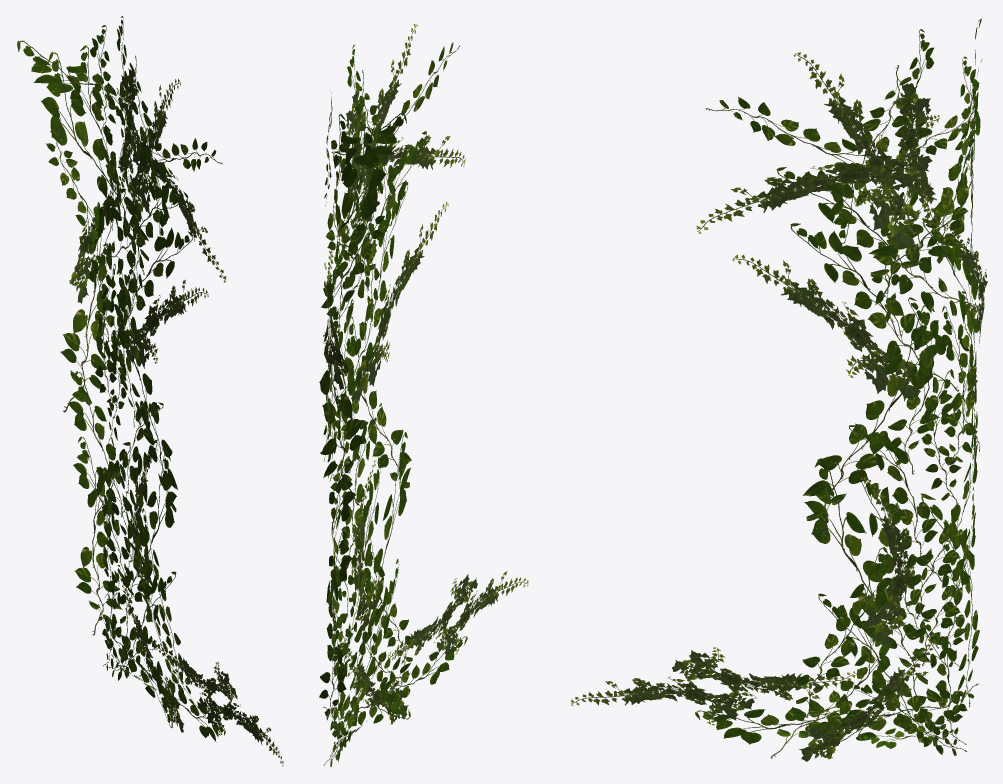
The model's file is SM_Prop_Ivy_Corner.fbx.
3 views of the same model, side by side, from view 1: azimuth 30°, elevation 25°; view 2: azimuth 150°, elevation 25°; view 3: azimuth 270°, elevation 25° (orthographic). The views are drawn at different scales.
Visible parts, largest first — view 1: SM_Prop_Ivy_Corner_LOD0; view 2: SM_Prop_Ivy_Corner_LOD0; view 3: SM_Prop_Ivy_Corner_LOD0.
Part boxes in pixels (left/top/right/bottom): SM_Prop_Ivy_Corner_LOD0: left=17, top=16, right=283, bottom=766; SM_Prop_Ivy_Corner_LOD0: left=319, top=23, right=528, bottom=766; SM_Prop_Ivy_Corner_LOD0: left=570, top=18, right=987, bottom=761.
Bounding box in the file's own units: 56.03 × 179 × 342.
1 material, 1 textured.
